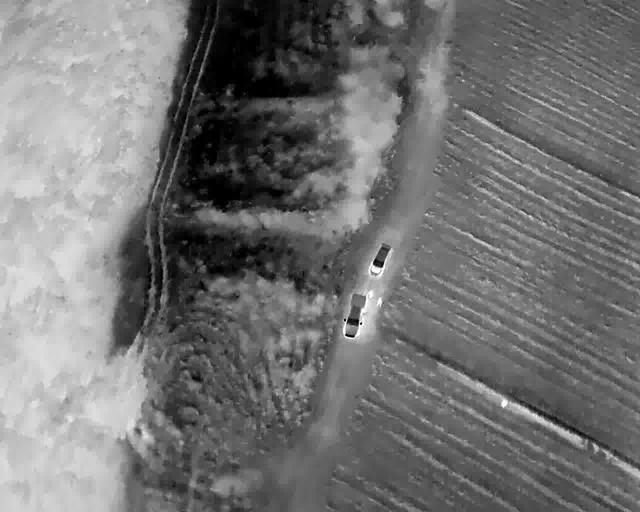car: (346, 291, 362, 339), (373, 241, 387, 277)
person: (375, 297, 383, 308), (500, 398, 508, 409), (368, 289, 373, 300)
